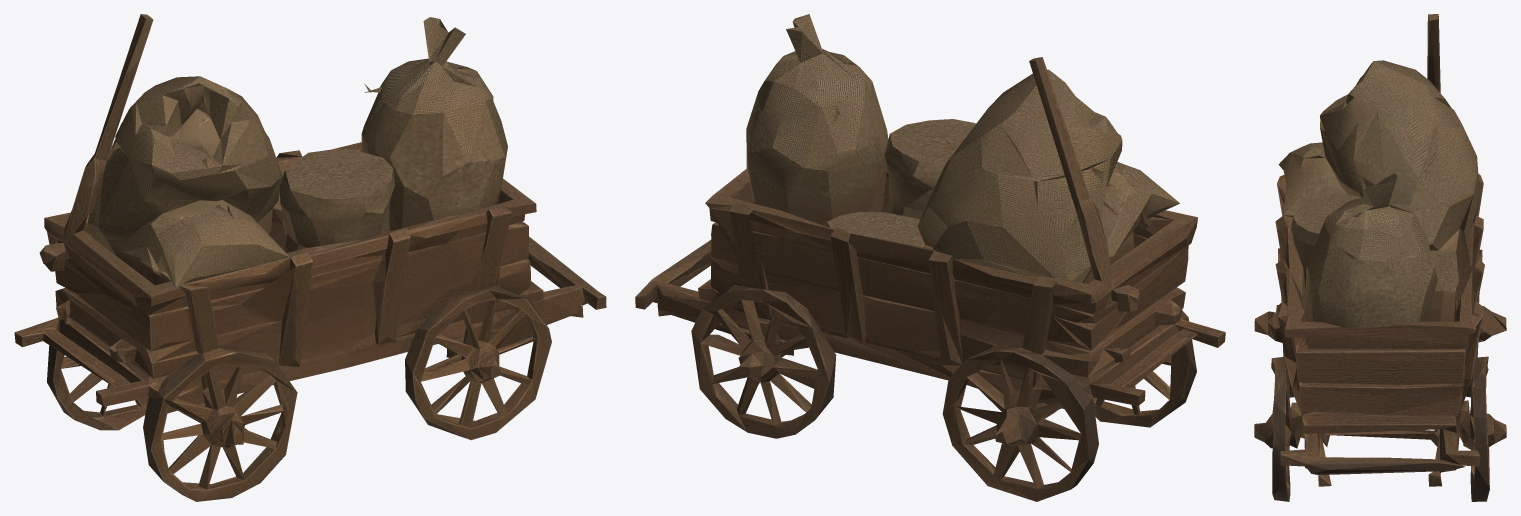
The model's file is wagon.glb.
The picture shows the model from 3 angles, left to right: view 1: azimuth 30°, elevation 25°; view 2: azimuth 150°, elevation 25°; view 3: azimuth 270°, elevation 25°; orthographic projection. The views are drawn at different scales.
Bounding box in the file's own units: 1.9 × 1.53 × 0.9257.
Materials: 1 (1 with a texture image).
